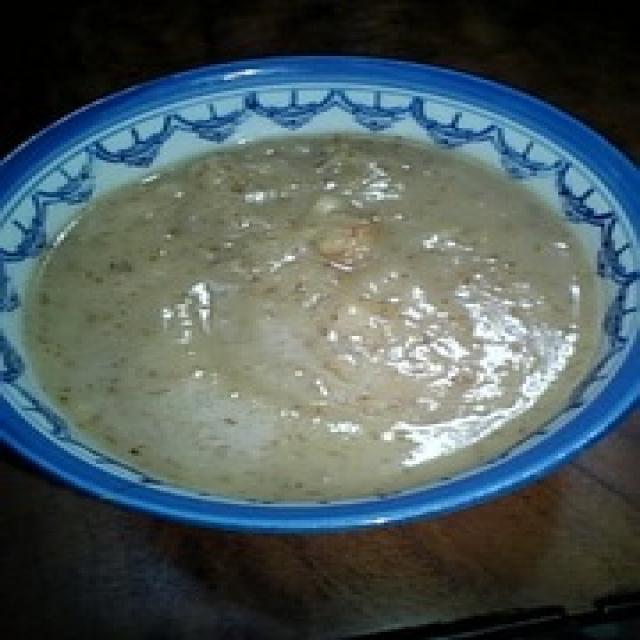汤锅炖物: (0, 43, 640, 544)
